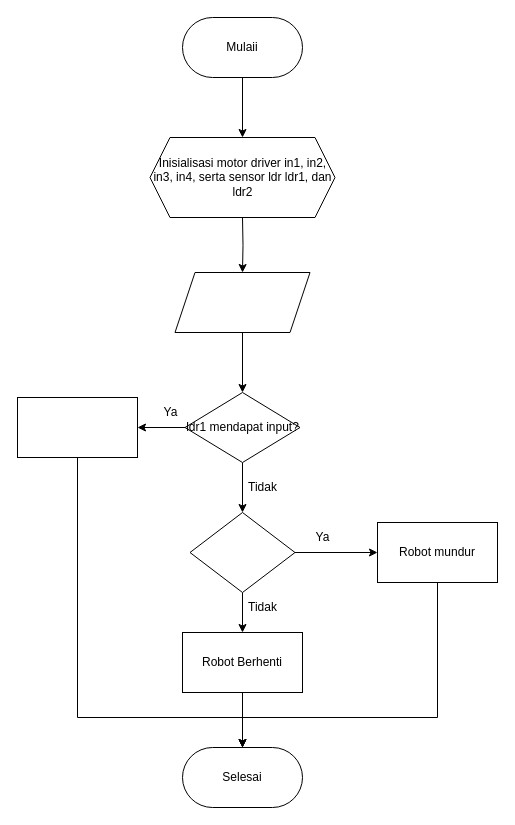
The diagram is 515 pixels wide and 825 high, and some of its shapes have lost their labels. Each missing label, with the centre of its shape:
"ldr2 mendapat inputt?" goes at point (242, 552).
"Membaca input dari sensor LDR" goes at point (242, 302).
"Robot maju" goes at point (77, 427).
